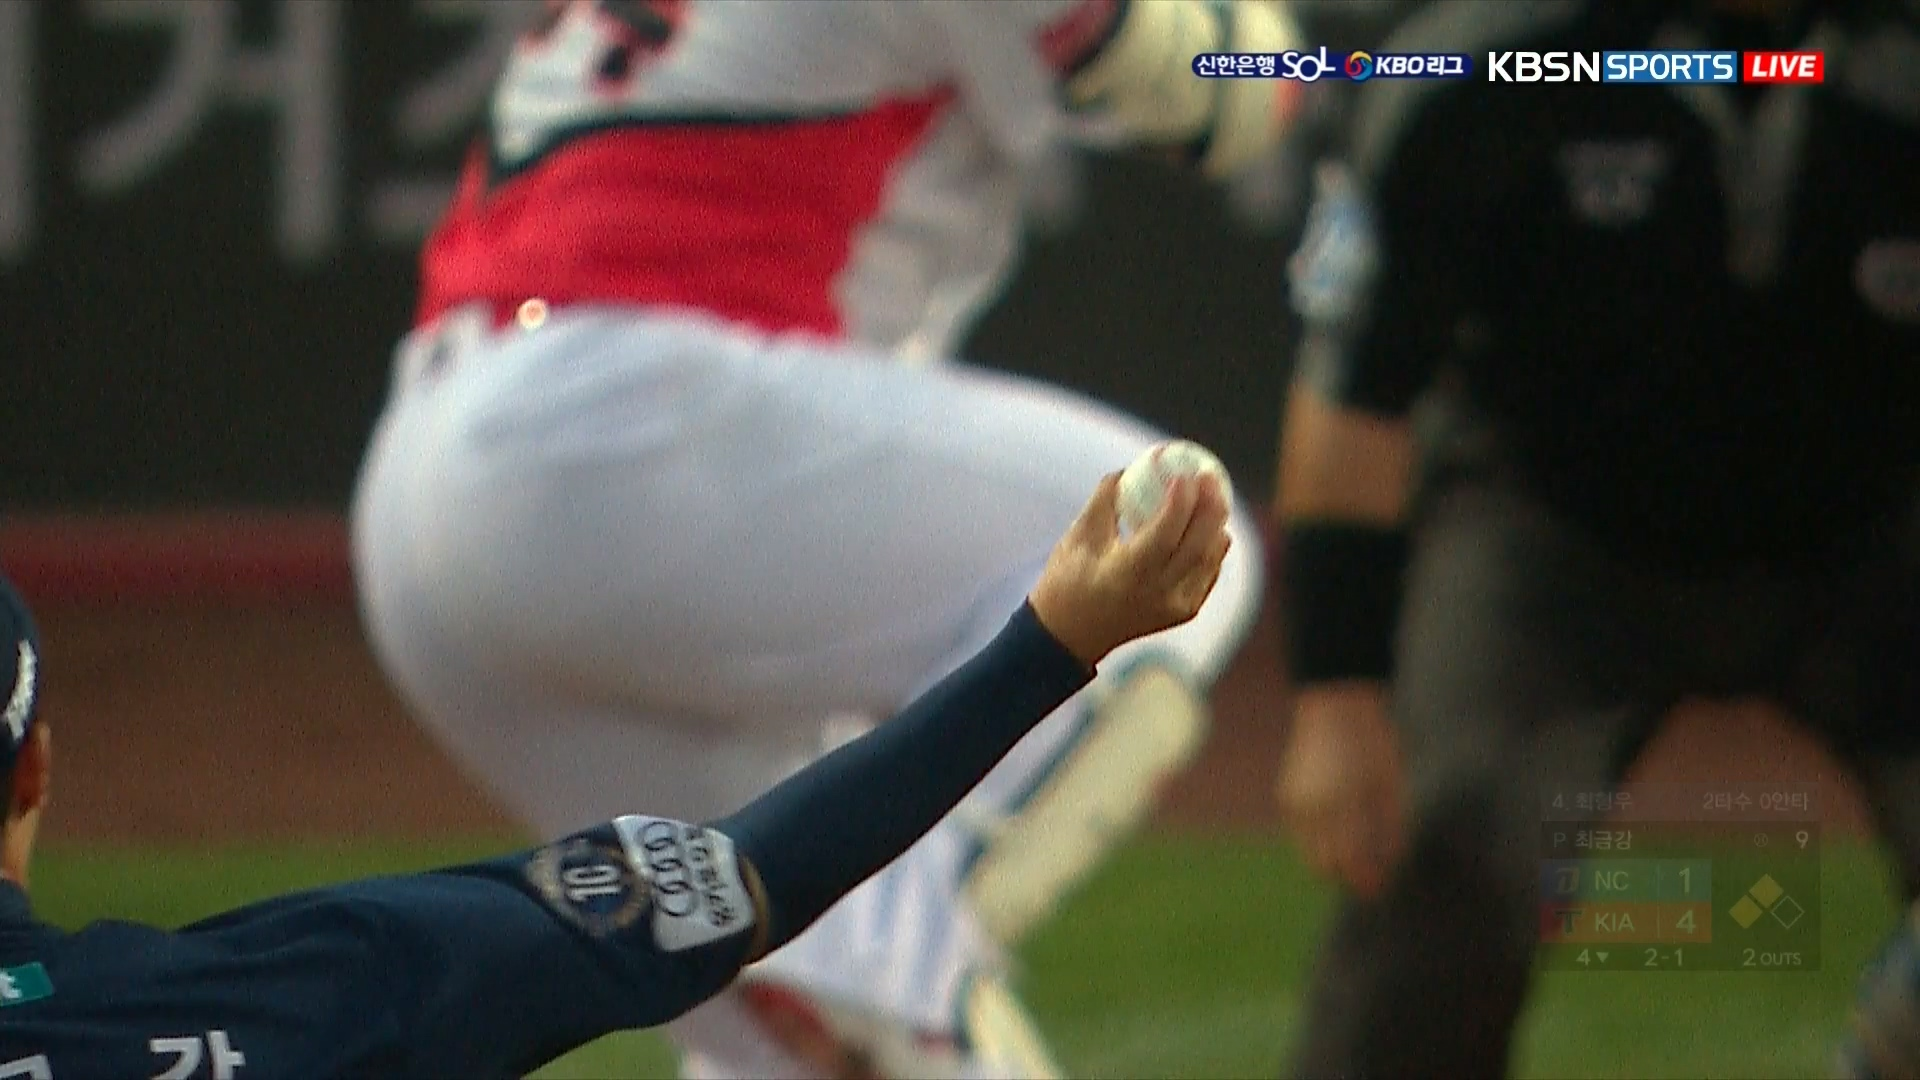zoomin_hand: (746, 434, 1247, 957)
